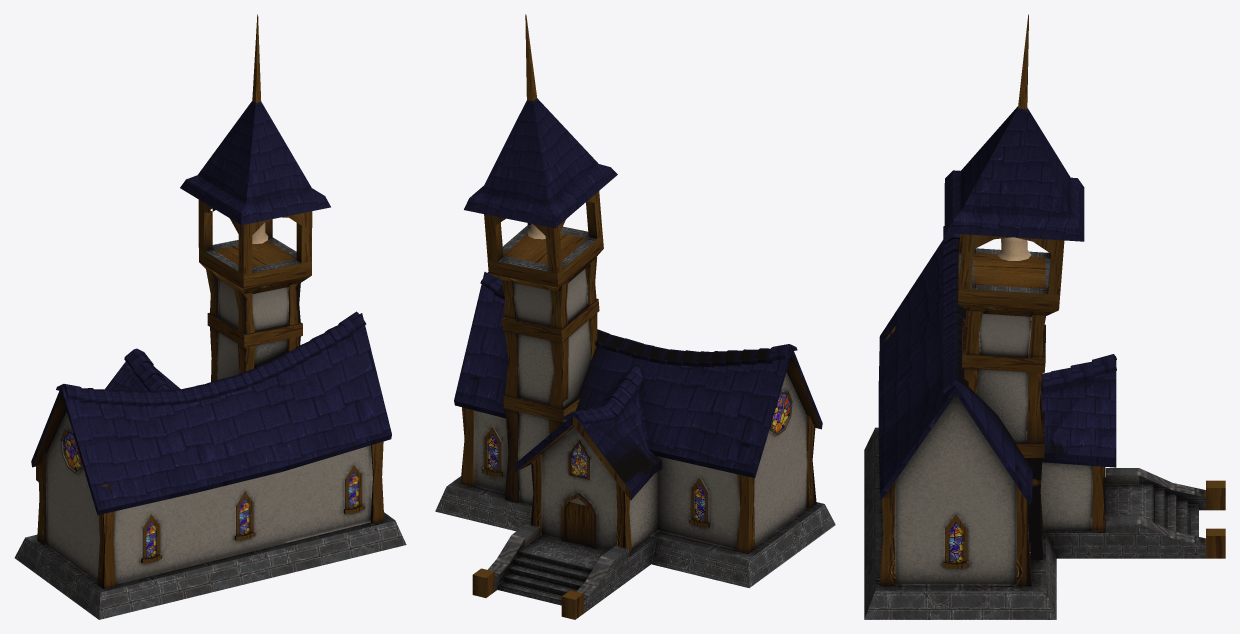
Rendered from church.obj.
The picture shows the model from 3 angles, left to right: view 1: azimuth 30°, elevation 25°; view 2: azimuth 150°, elevation 25°; view 3: azimuth 270°, elevation 25°; orthographic projection. The views are drawn at different scales.
Parts seen in each view (by area): view 1: church; view 2: church; view 3: church.
Boxes of the visible parts, box(x1,y1,x2,y2) form: church: box(14, 14, 406, 619); church: box(435, 14, 835, 619); church: box(864, 14, 1225, 619).
Size of the model in its own units: 18.14 by 28.03 by 16.25.
1 material, 1 textured.
